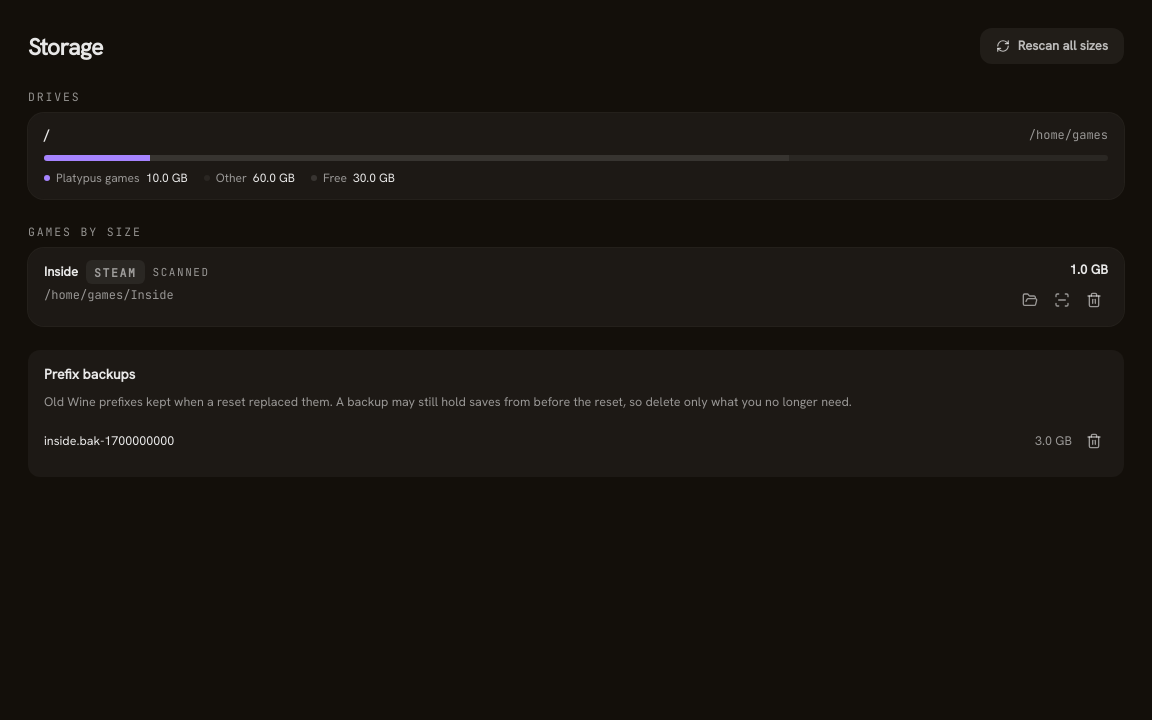
Test: prefix backups in the classic Storage page › cancelling the confirm keeps the backup
Click the button named "Delete inside.bak-1700000000": (1094, 441) [1080,427,1108,455]
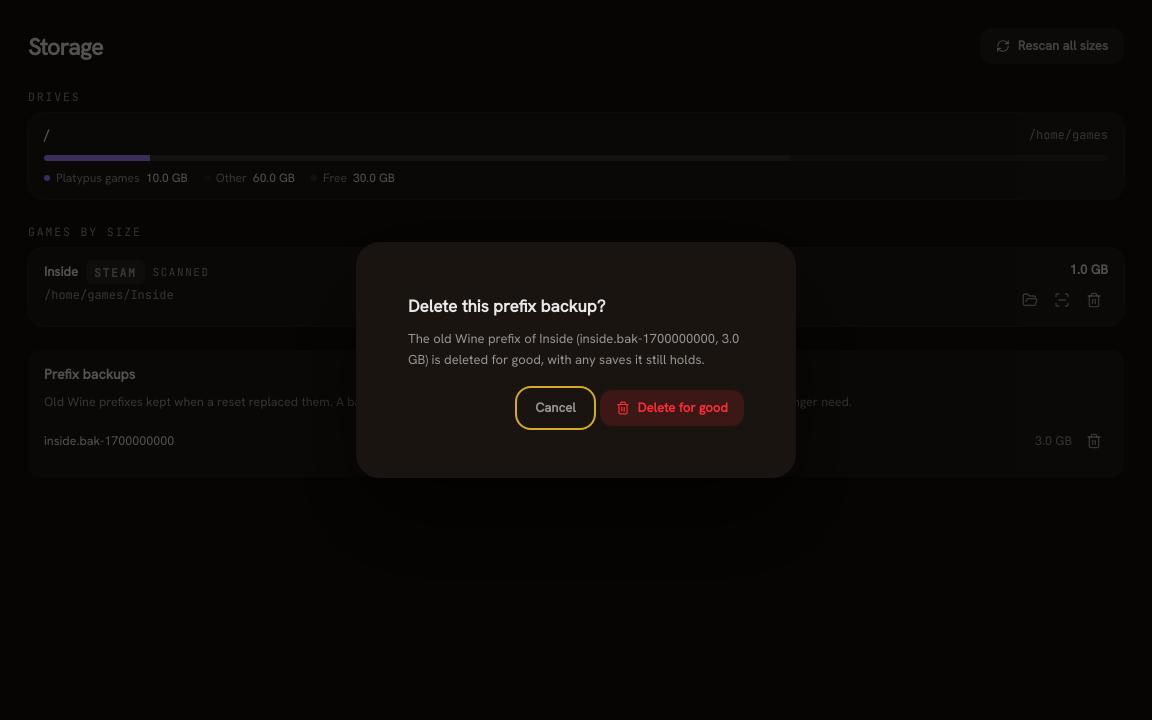
Click the button "Cancel": (555, 408) [519,390,592,426]
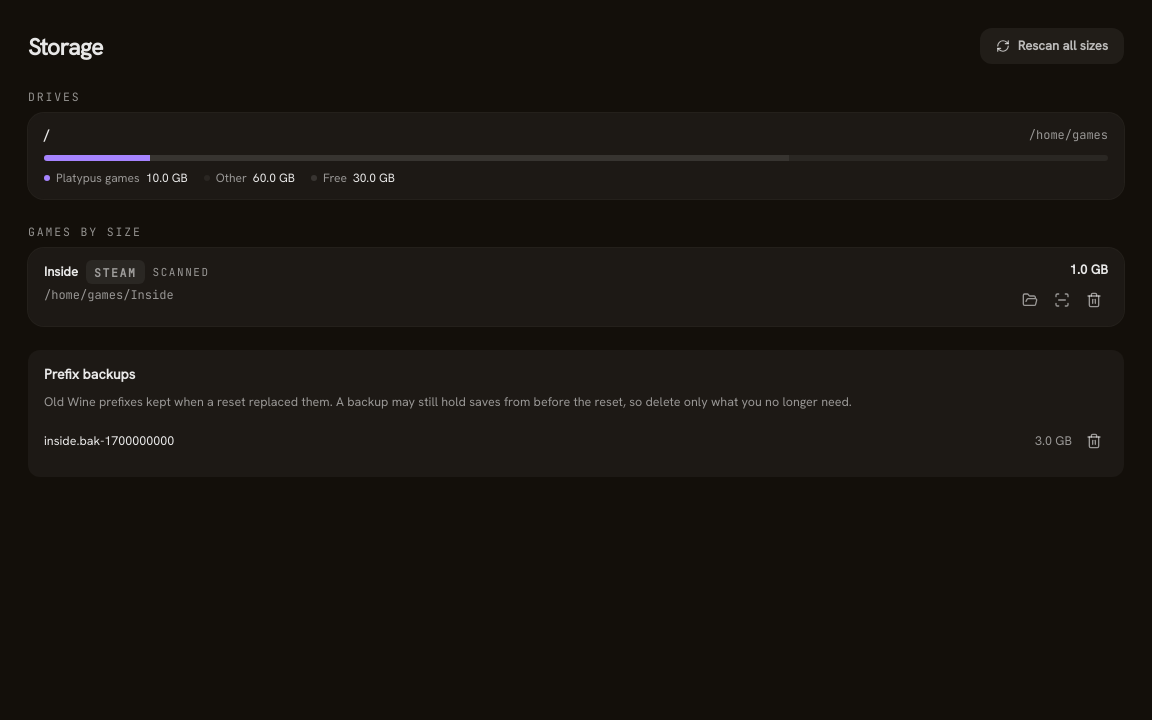
Expected: the text "inside.bak-1700000000" is shown, [44,432,174,449]
Expected: the heading "Delete this prefix backup?" is gone
